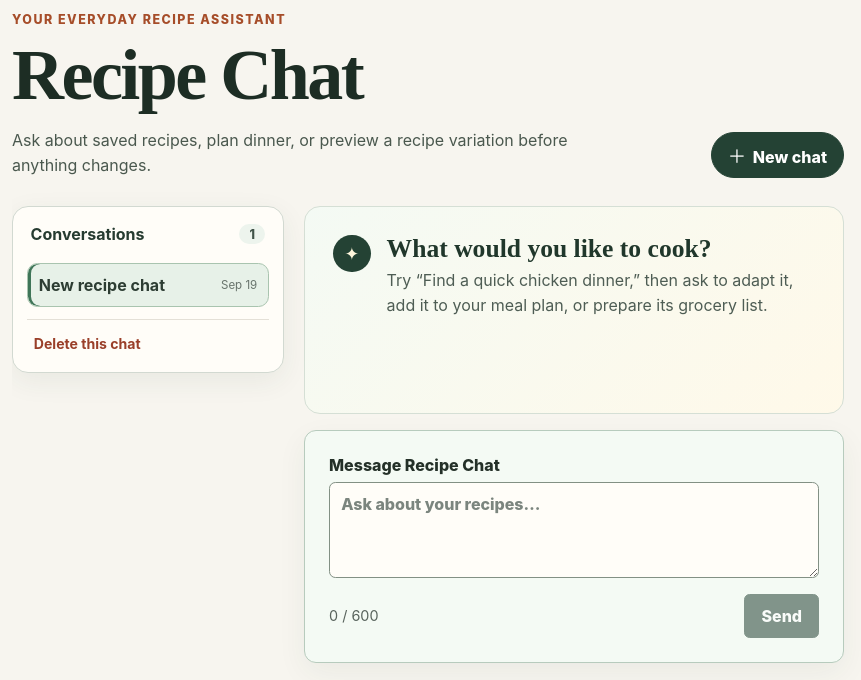
Test case: deletes the active conversation without creating a replacement
This screenshot has width=861, height=680.
Click the button "Delete this chat" at (148, 339), box [27,319,269,358]
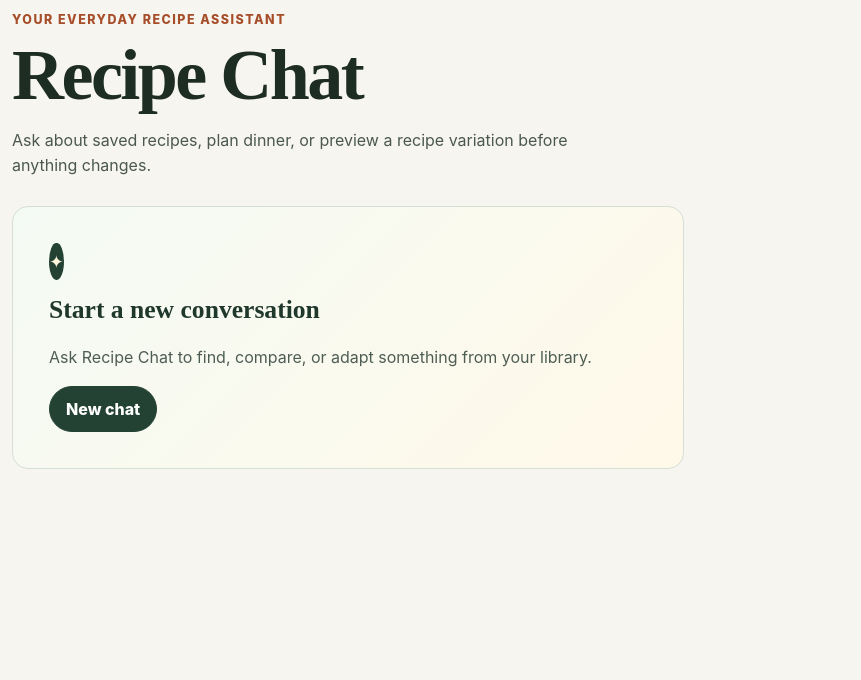
Expected: the heading "Start a new conversation" is shown, [49,296,320,324]
